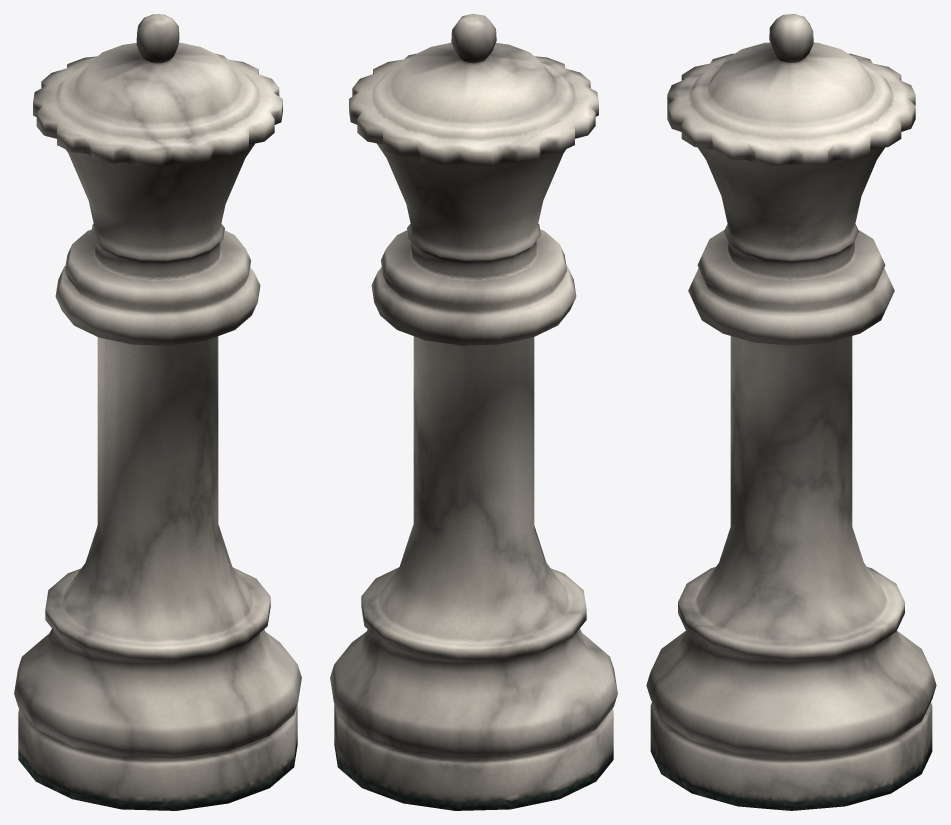
File: ChessPieces_Queen_White.gltf
3 views of the same model, side by side, from view 1: azimuth 30°, elevation 25°; view 2: azimuth 150°, elevation 25°; view 3: azimuth 270°, elevation 25° (orthographic).
Visible parts, largest first — view 1: ChessPieces_Queen_White; view 2: ChessPieces_Queen_White; view 3: ChessPieces_Queen_White.
Part boxes in pixels (<box>): ChessPieces_Queen_White: <box>14,14,301,810</box>; ChessPieces_Queen_White: <box>330,14,617,810</box>; ChessPieces_Queen_White: <box>646,14,936,810</box>.
Size of the model in its own units: 0.0304 by 0.085 by 0.0304.
1 material, 1 textured.
